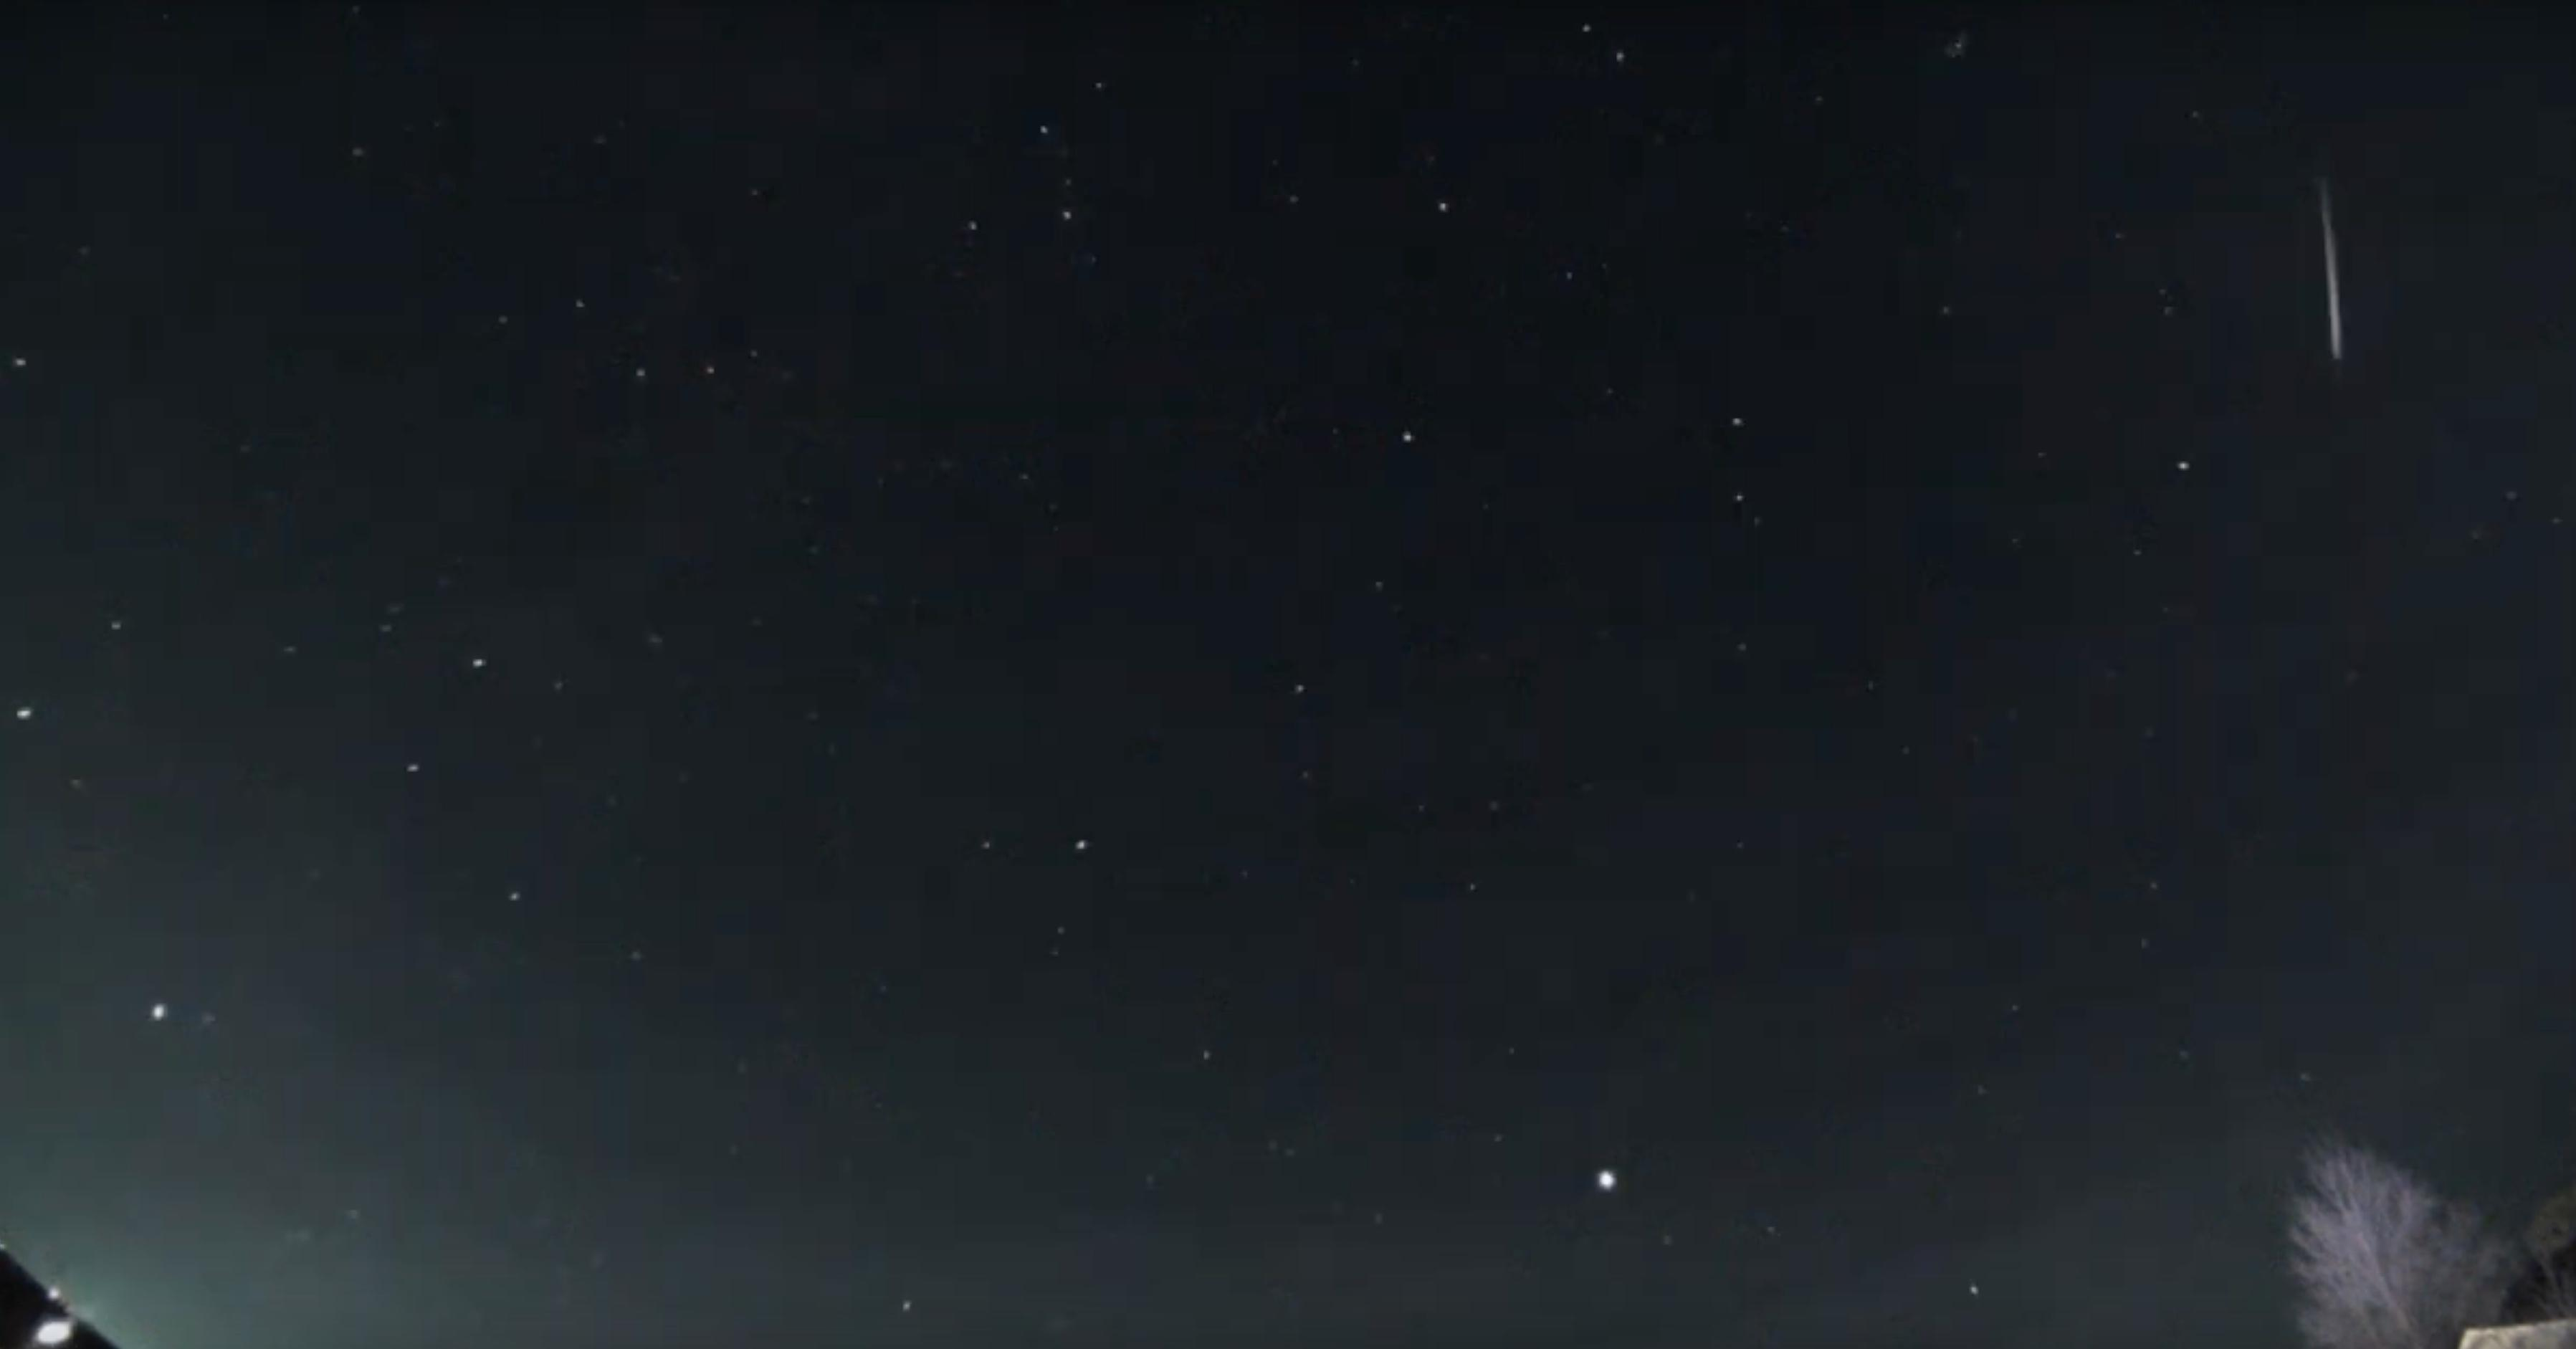Plane: (1920, 22, 1990, 73)
meteorite: (2264, 128, 2402, 405)
